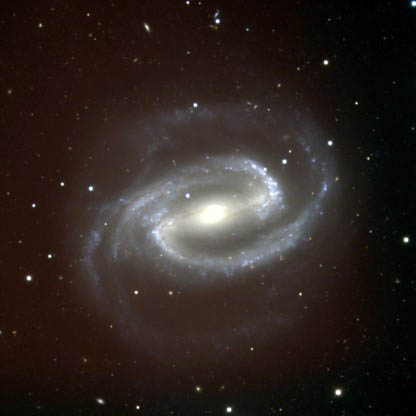NGC 1300: (53, 85, 363, 378)
